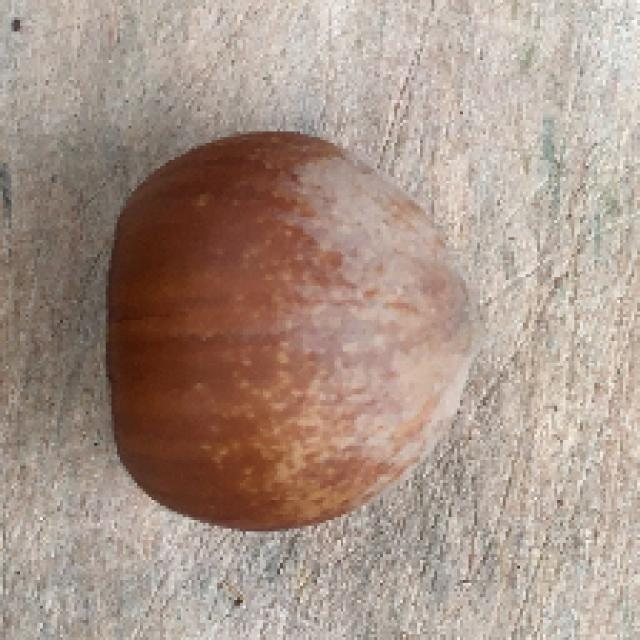qualityHazelnut: (93, 122, 491, 531)
